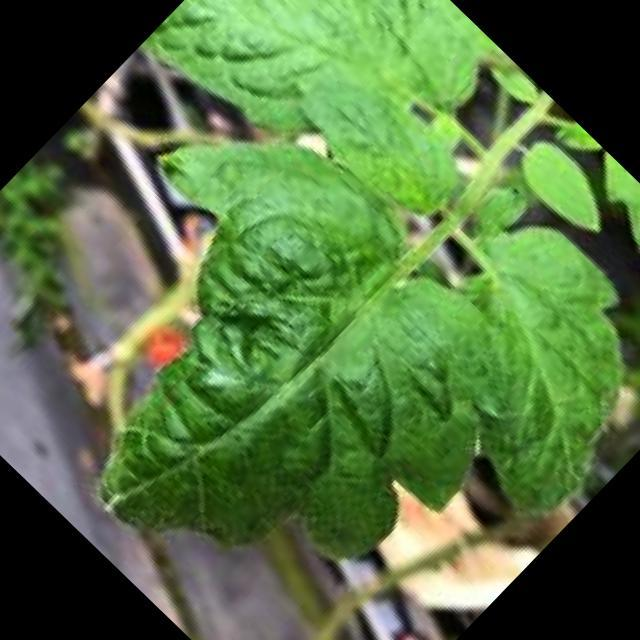Tomato healthy leaf: (102, 0, 640, 563)
